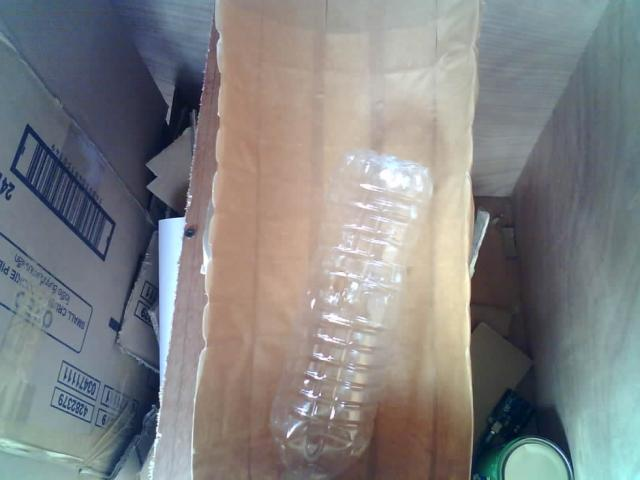small_bottle: (256, 133, 440, 480)
